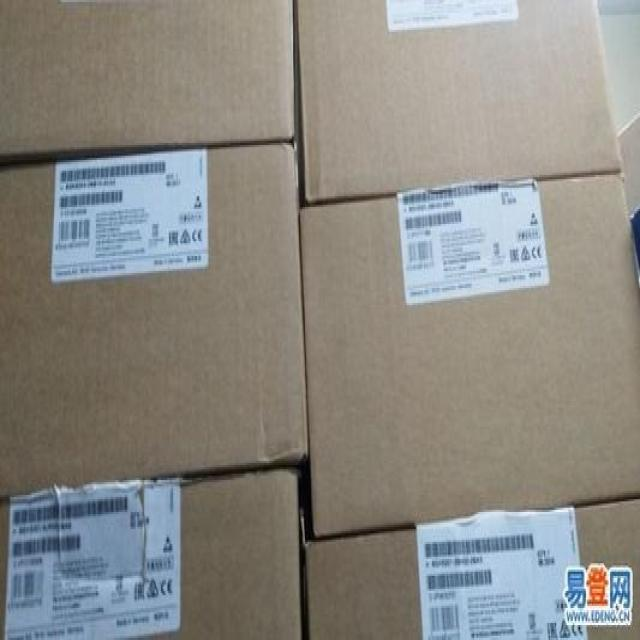box: (299, 173, 640, 538), (0, 139, 309, 503), (295, 0, 624, 205), (0, 469, 304, 640), (304, 495, 640, 638), (0, 0, 293, 158)
